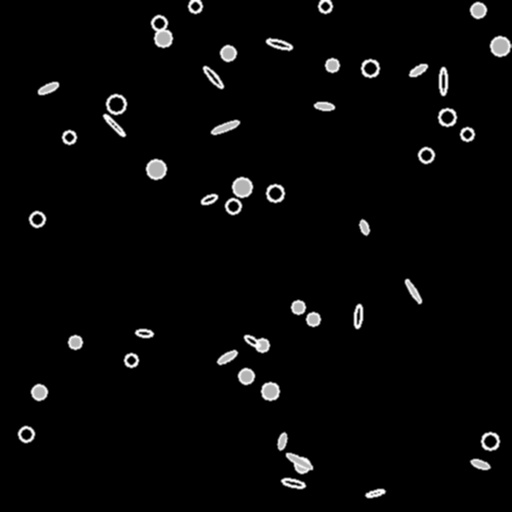pseudomonas: (102, 113, 126, 137), (285, 451, 313, 471), (202, 65, 224, 89), (404, 278, 422, 304), (211, 119, 239, 135), (265, 37, 293, 51), (217, 349, 237, 365), (37, 81, 59, 95), (282, 477, 304, 489), (409, 63, 427, 77), (470, 458, 490, 470), (244, 334, 260, 348), (200, 193, 218, 205), (365, 488, 385, 498), (358, 219, 370, 235), (277, 432, 287, 450), (354, 305, 362, 327), (314, 102, 334, 110), (440, 68, 446, 94), (135, 329, 153, 337)
synechocystis: (233, 178, 251, 196), (147, 160, 165, 178), (107, 95, 125, 113), (491, 37, 509, 55), (262, 383, 278, 399), (439, 109, 455, 125), (155, 30, 171, 46), (362, 60, 378, 76), (482, 433, 498, 449), (267, 185, 283, 201), (226, 199, 240, 213), (19, 427, 33, 441), (30, 212, 44, 226), (239, 369, 253, 383), (152, 16, 166, 30), (419, 148, 433, 162), (32, 385, 46, 399), (471, 3, 485, 17), (221, 46, 235, 60), (295, 458, 309, 472), (189, 0, 201, 12), (319, 0, 331, 12), (461, 128, 473, 140), (307, 313, 319, 325), (63, 131, 75, 143), (256, 339, 268, 351), (69, 336, 81, 348), (292, 301, 304, 313), (326, 59, 338, 71), (125, 354, 137, 366)
